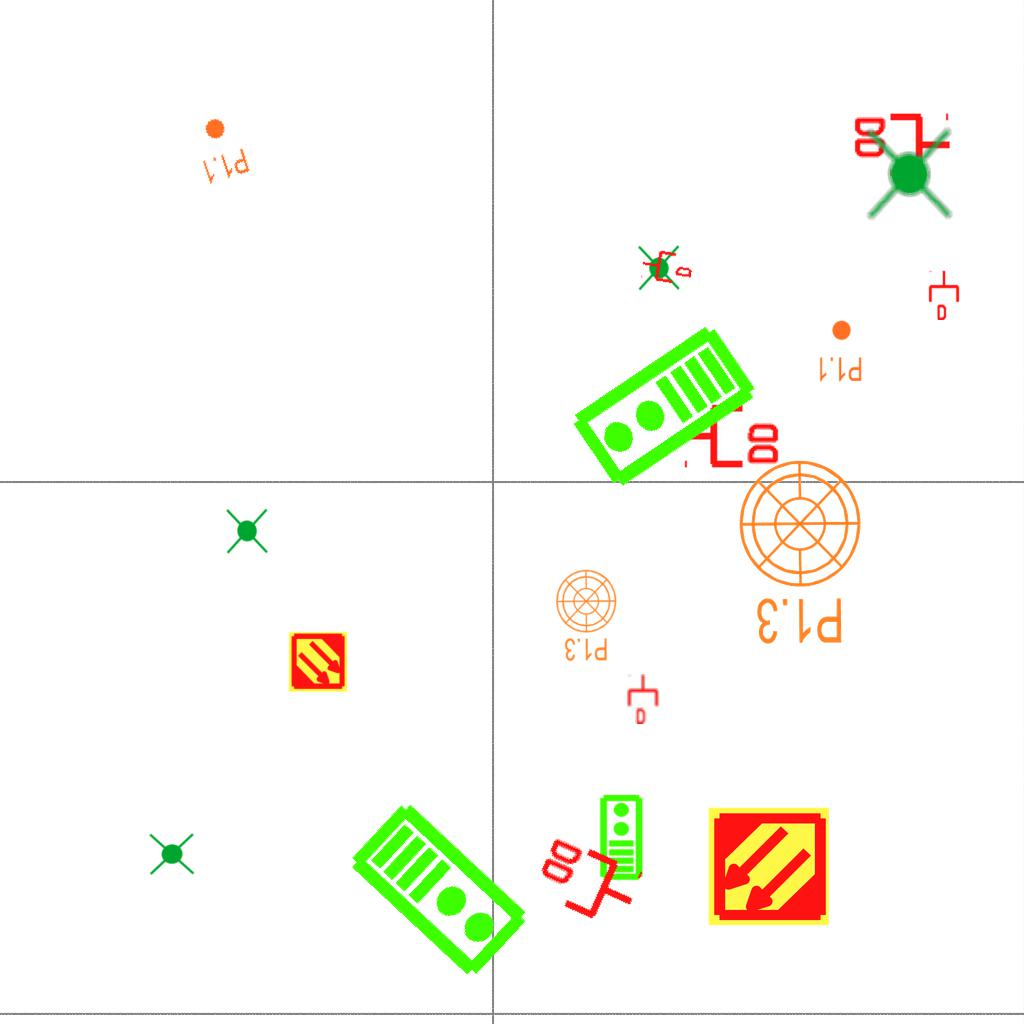ASR_Ansaugrauchmelder: (706, 804, 831, 929), (287, 631, 349, 693)
Aufbaurundleuchte_LED_Treppenhaus: (725, 457, 864, 662), (549, 568, 618, 670)
Datenanschluss_einfach: (639, 246, 695, 288), (927, 270, 961, 320), (626, 674, 660, 724)
Datenanschluss_zweifach: (525, 831, 648, 936), (680, 400, 783, 469), (850, 112, 953, 181)
Downlight_LED_Einbauleuchten_Flur_2: (188, 111, 252, 187), (817, 319, 863, 383)
Gegensprechanlage_mit_Video: (343, 794, 538, 984), (564, 319, 765, 497), (597, 793, 644, 881)
Notlichtbaustein_in_Allgemeinbeleuchtug_engebaut_Einbau_(1UG_und_2UG_Aufbauvaria: (859, 124, 962, 224), (221, 506, 272, 556), (147, 828, 197, 879), (634, 243, 685, 293)
